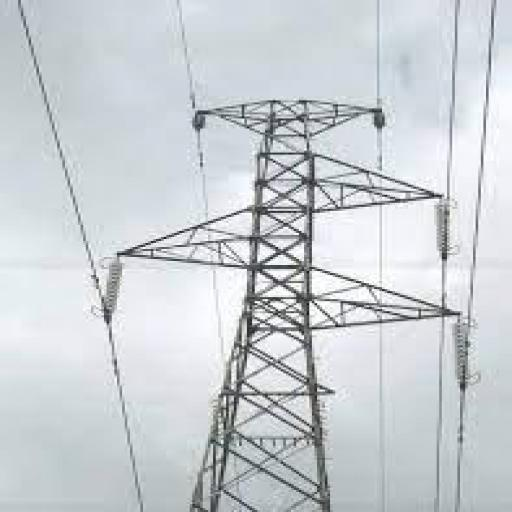ss_4: (104, 92, 478, 510)
